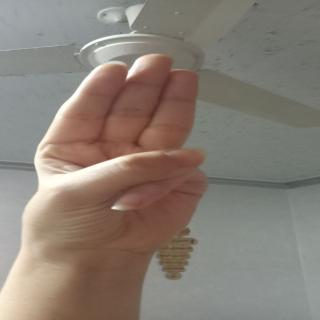THA: (13, 51, 246, 251)
